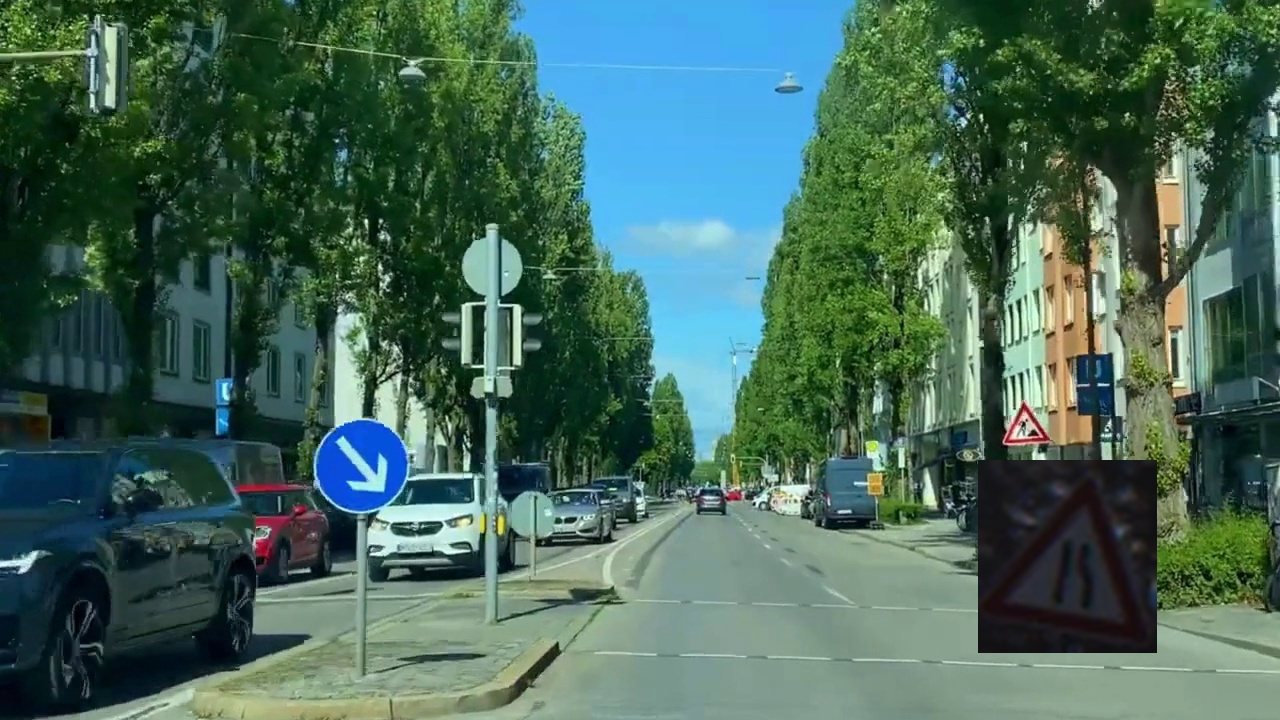Road narrows: (978, 460, 1157, 653)
